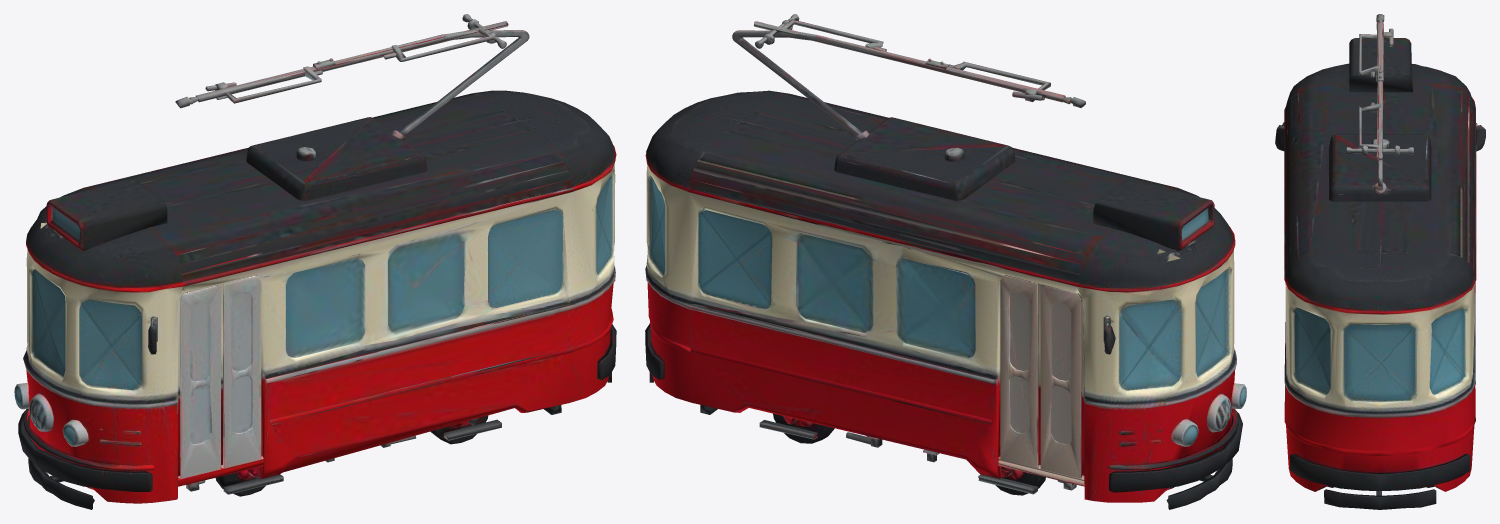
The model's file is tramCar.071322a7.glb.
The picture shows the model from 3 angles, left to right: view 1: azimuth 30°, elevation 25°; view 2: azimuth 150°, elevation 25°; view 3: azimuth 270°, elevation 25°; orthographic projection. The views are drawn at different scales.
Size of the model in its own units: 0.9575 by 0.6221 by 0.3472.
1 material, 1 textured.
